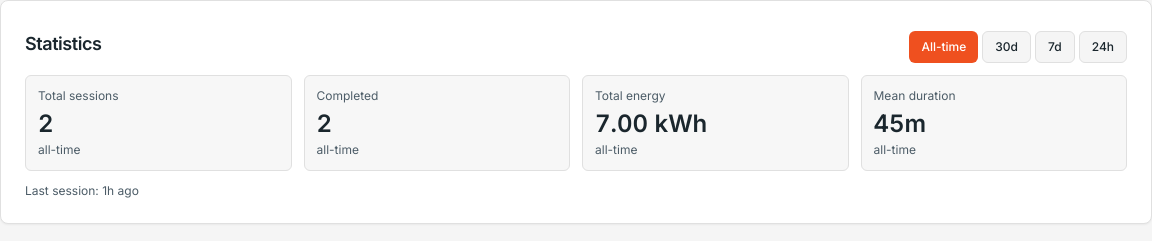
Scenario: StatisticsCard › window selector recomputes tiles when clicked
Check: the text "2" below "Total sessions" is shown, box [38,109,54,138]
Check: the text "7.00 kWh" is shown, box [595,109,707,138]
// Click 24h: only the recent session counts → 1 session, 2.00 kWh.
Click the button "24h" at (1103, 47), box [1079,31,1127,63]
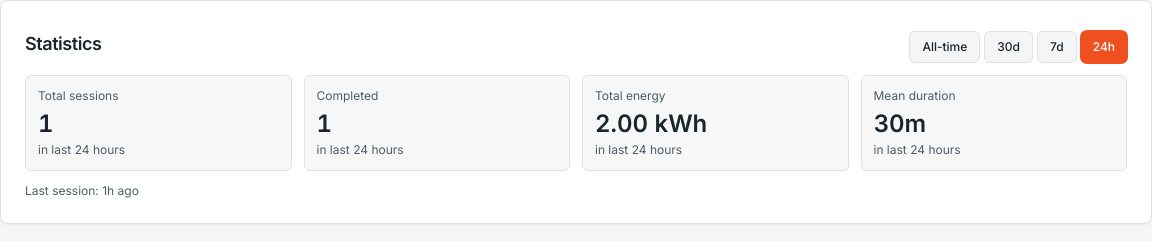
Check: the text "1" below "Total sessions" is shown, box [38,109,54,138]
Check: the text "2.00 kWh" is shown, box [595,109,707,138]
